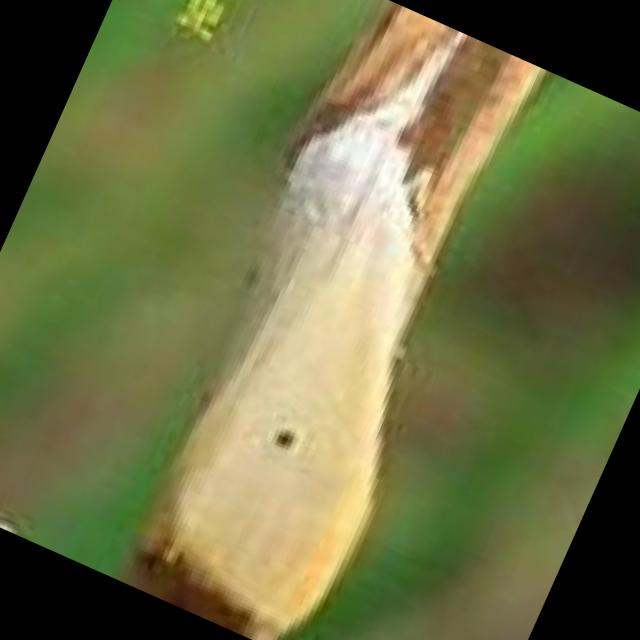stem-borer: (105, 0, 565, 640)
